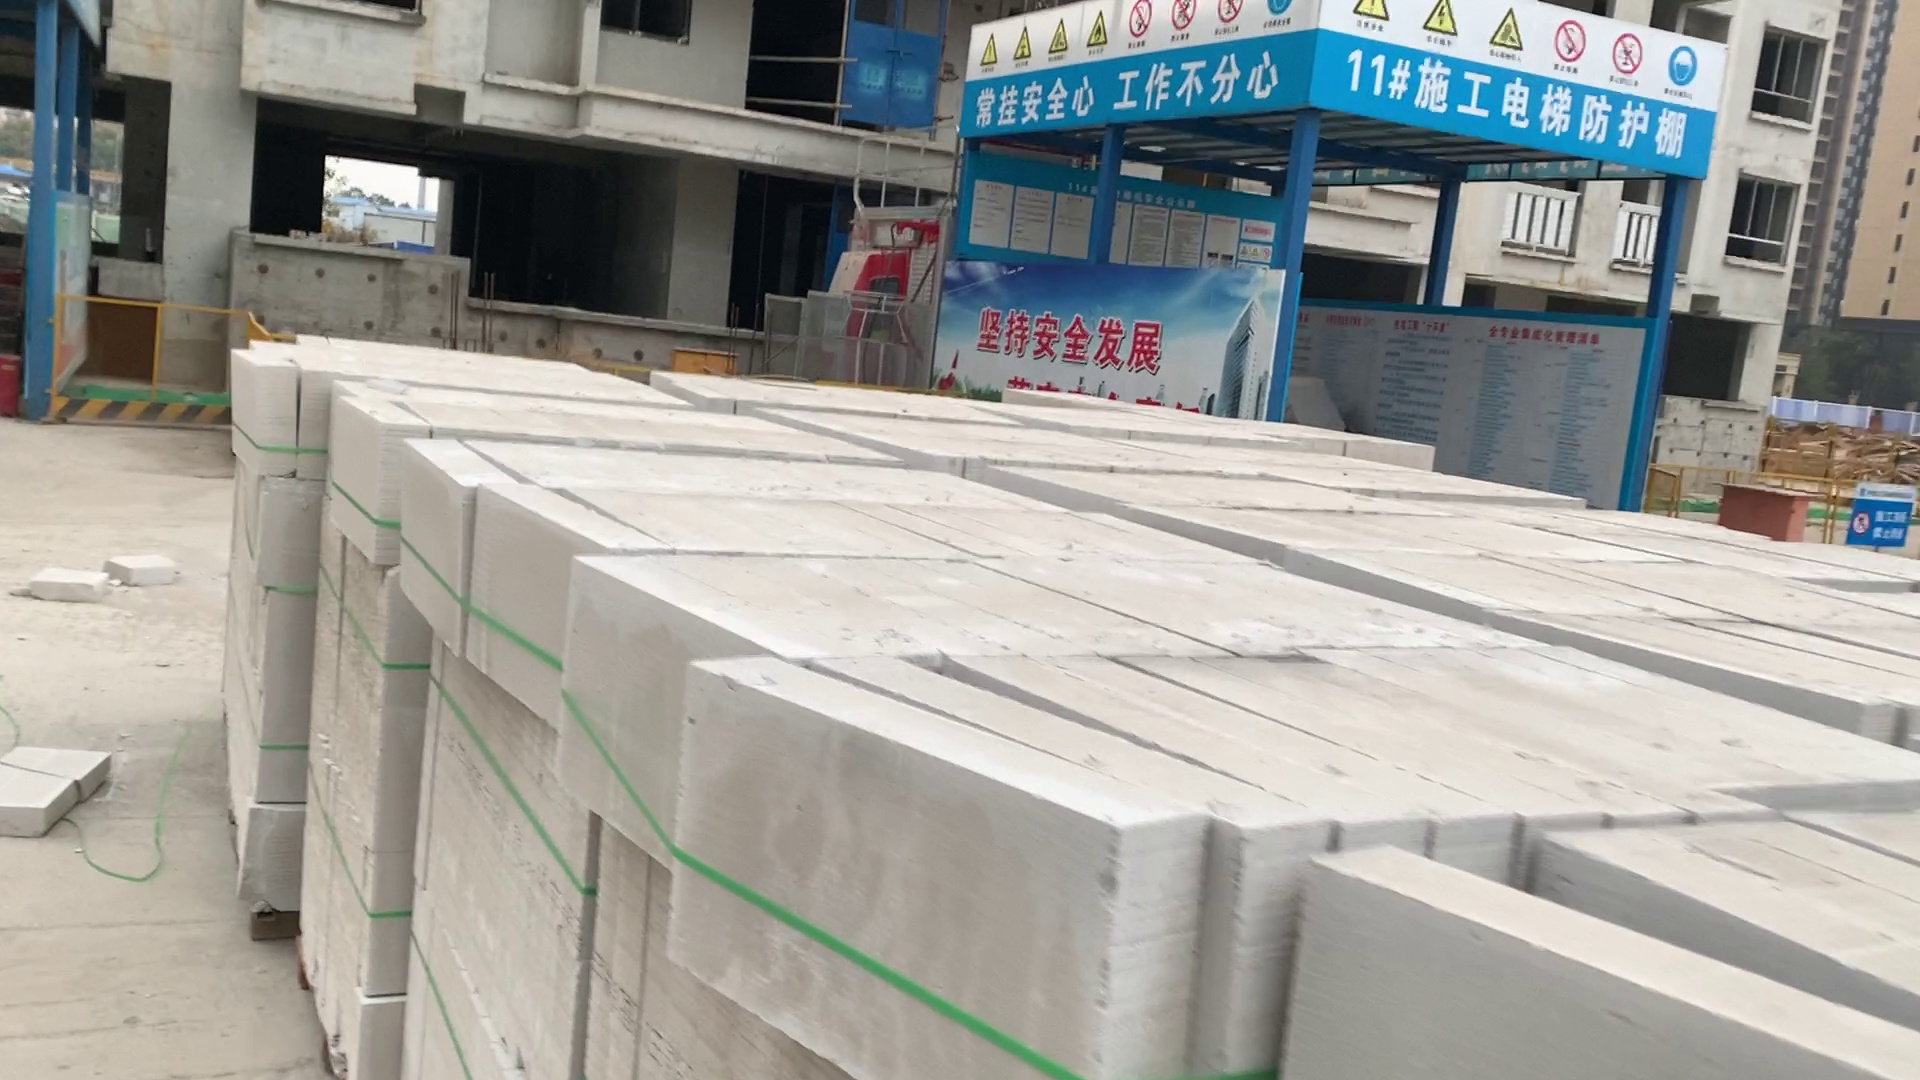brickwork: (705, 647, 1920, 811), (587, 560, 1539, 647), (485, 488, 1270, 564), (419, 439, 1058, 512), (335, 381, 899, 462), (1331, 558, 1920, 630), (235, 328, 684, 407), (750, 404, 1253, 469), (1006, 384, 1433, 456), (1145, 506, 1672, 564), (978, 465, 1461, 516), (655, 369, 1011, 415)
